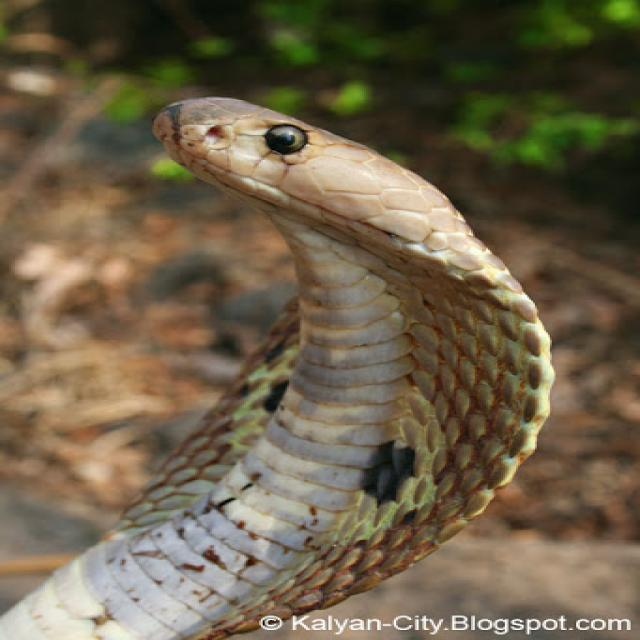Snake: (0, 93, 556, 638)
